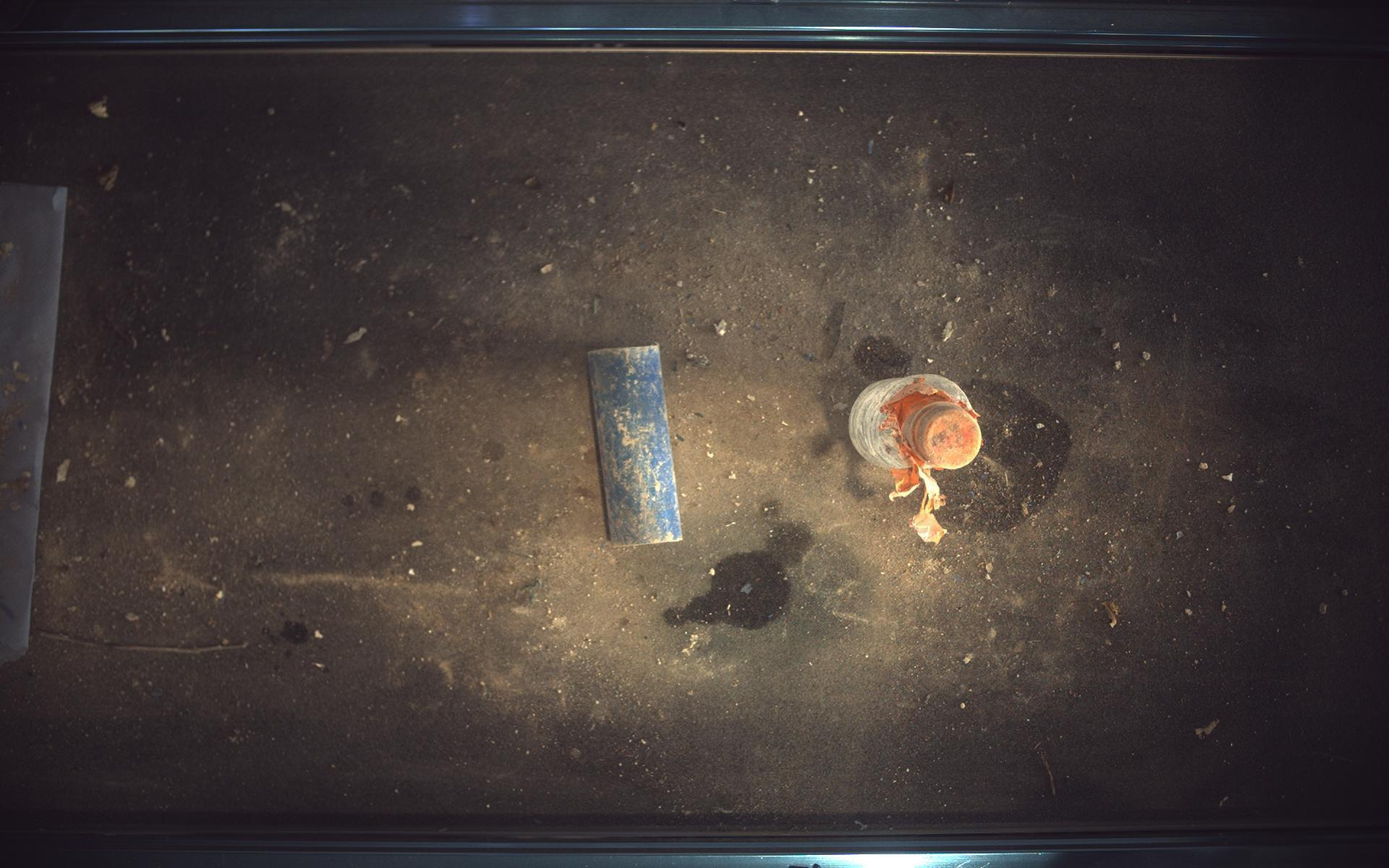general_w: (851, 374, 985, 543)
pipes: (588, 344, 683, 545)
